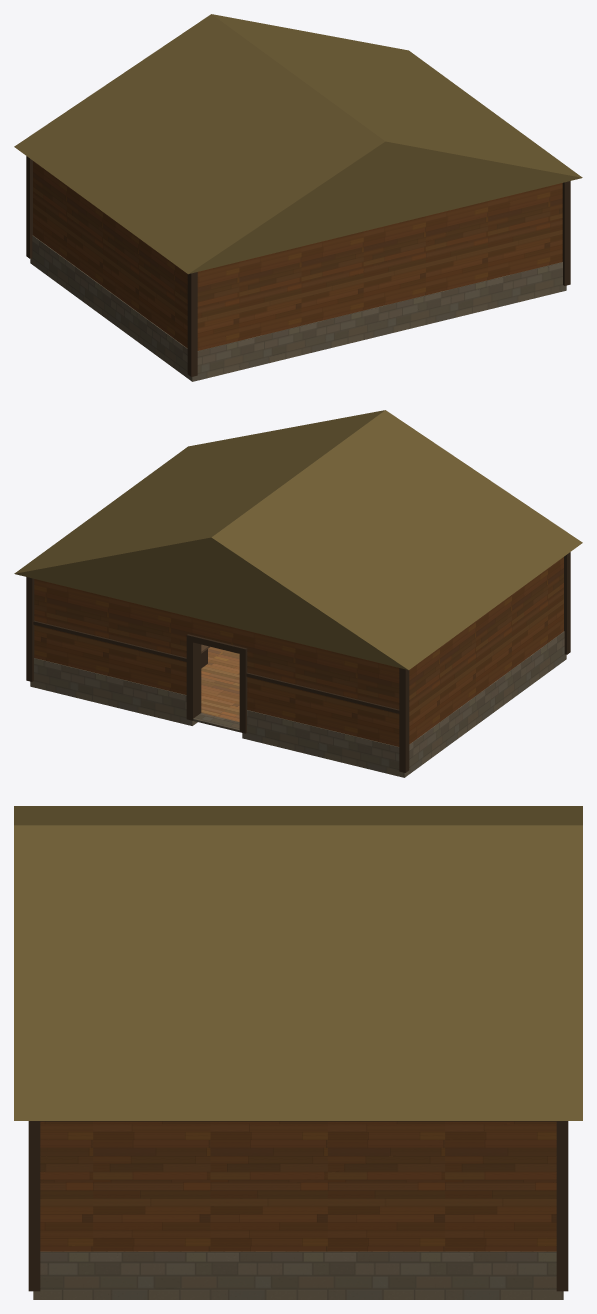
File: taberna.glb
3 views of the same model, one above another, from view 1: azimuth 30°, elevation 25°; view 2: azimuth 150°, elevation 25°; view 3: azimuth 270°, elevation 25° (orthographic). The views are drawn at different scales.
Parts seen in each view (by area): view 1: taberna-1, taberna-0, taberna-2; view 2: taberna-1, taberna-0, taberna-2; view 3: taberna-1, taberna-0, taberna-2.
Part boxes in pixels (left/top/right/bottom): taberna-1: left=14, top=14, right=582, bottom=376; taberna-0: left=33, top=161, right=562, bottom=350; taberna-2: left=30, top=235, right=566, bottom=381; taberna-1: left=14, top=410, right=582, bottom=772; taberna-0: left=34, top=557, right=563, bottom=746; taberna-2: left=30, top=631, right=566, bottom=777; taberna-1: left=14, top=806, right=582, bottom=1291; taberna-0: left=40, top=1121, right=556, bottom=1251; taberna-2: left=33, top=1251, right=563, bottom=1299.
Bounding box in the file's own units: 12.7 × 6.12 × 9.7.
Materials: 3 (2 with a texture image).
